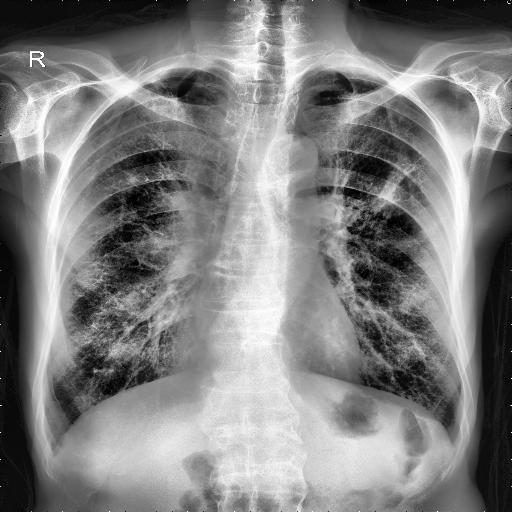0- Aortic enlargement: (264, 136, 318, 188), (262, 131, 316, 180)
11- Pleural thickening: (124, 64, 188, 96), (148, 71, 166, 89)
13- Pulmonary fibrosis: (372, 158, 424, 216), (371, 160, 411, 214), (371, 158, 415, 206)
7- Lung Opacity: (371, 158, 415, 206)
